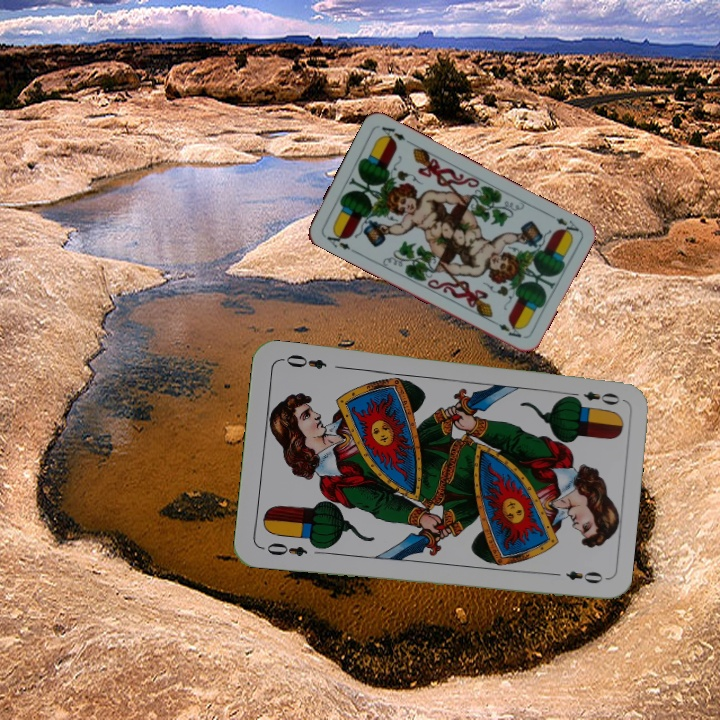EA: (544, 209, 582, 239), (320, 227, 353, 253)
EO: (565, 387, 623, 408), (258, 538, 310, 560)
